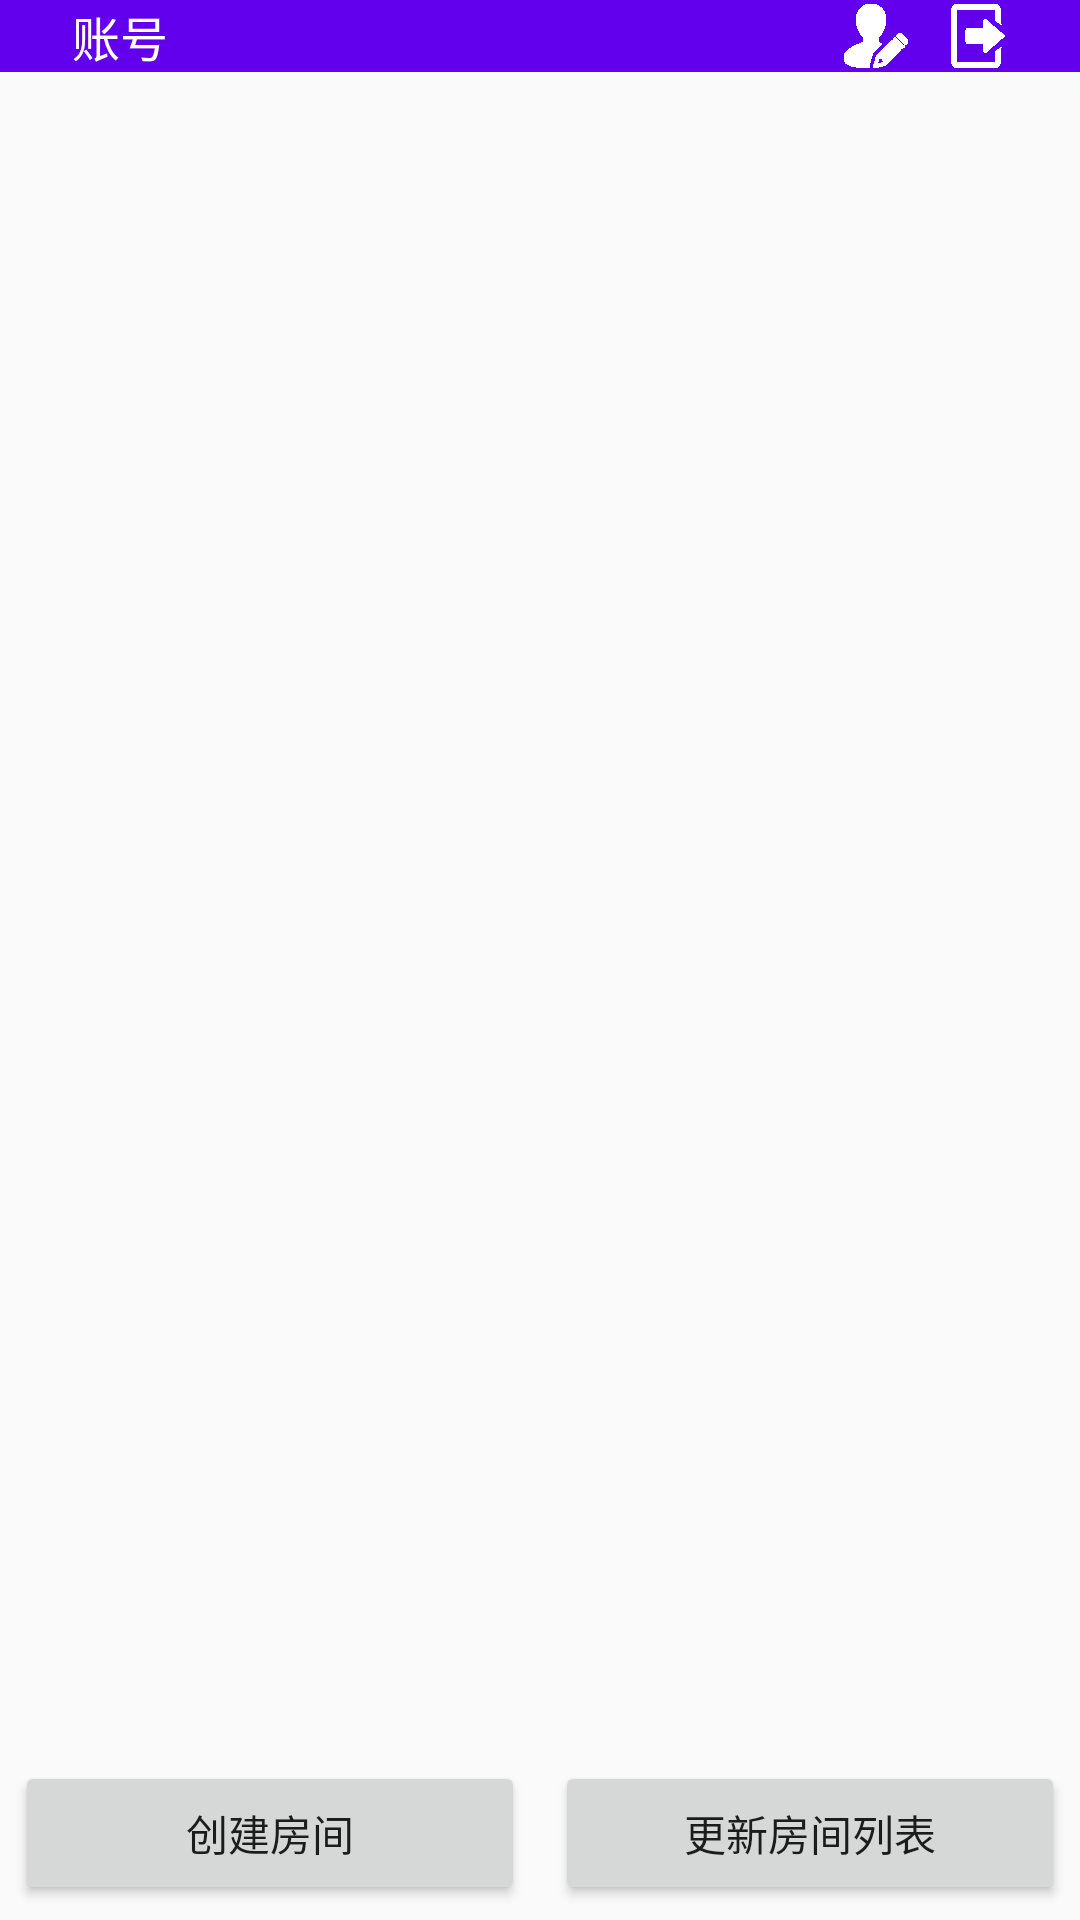

Where to tap for icons on this 1080x1920 app screen, as (x=x, y=y):
edit info: (x=876, y=36)
